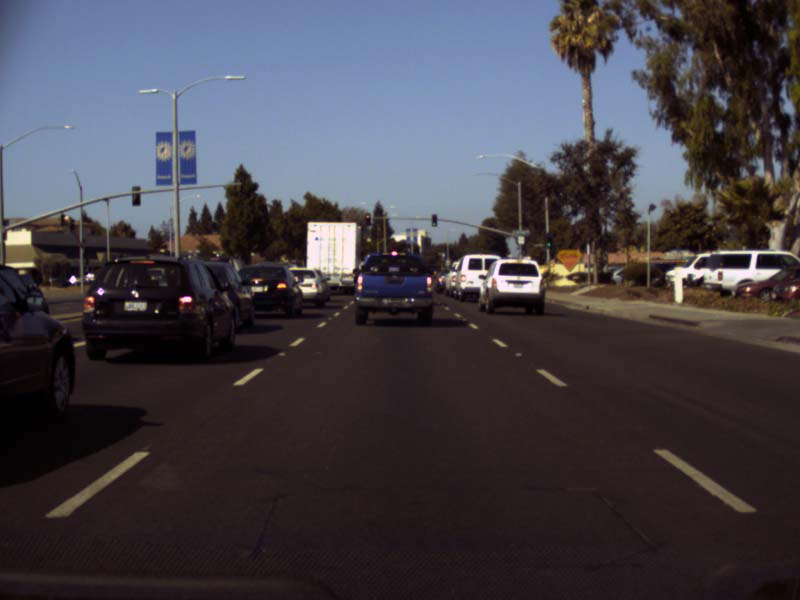Green: (545, 234, 551, 248), (431, 214, 437, 225), (521, 244, 525, 255)
Red: (365, 213, 369, 224)
